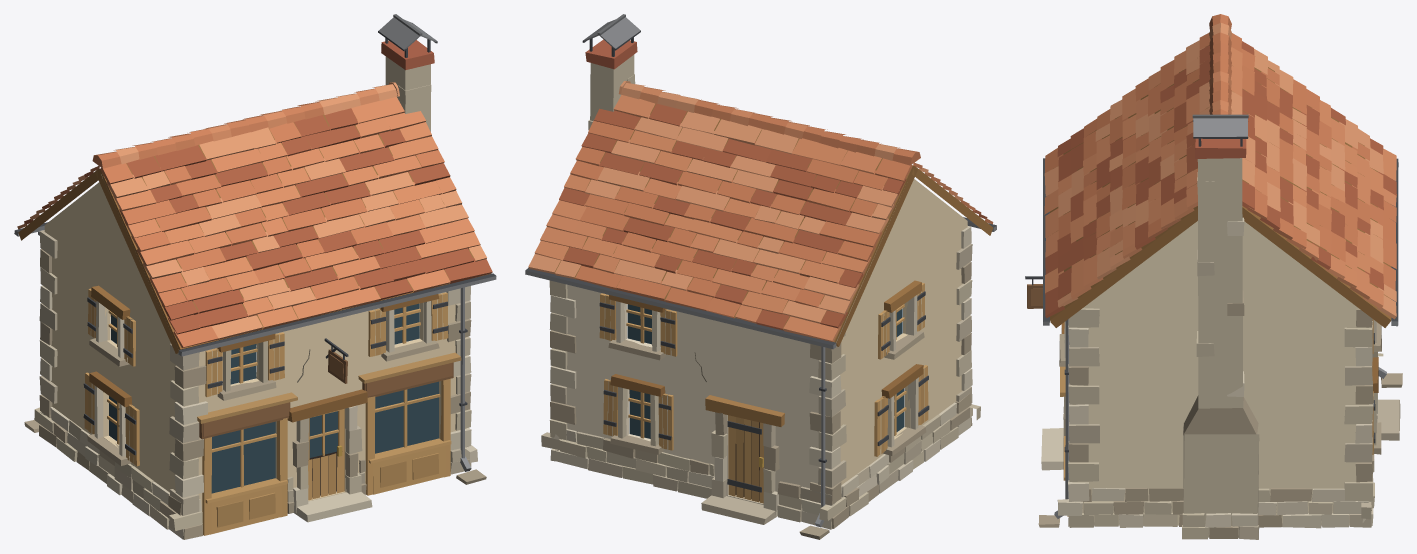
Rendered from fournil.glb.
3 views of the same model, side by side, from view 1: azimuth 30°, elevation 25°; view 2: azimuth 150°, elevation 25°; view 3: azimuth 270°, elevation 25° (orthographic). The views are drawn at different scales.
Visible parts, largest first — view 1: fournil; view 2: fournil; view 3: fournil.
Boxes of the visible parts, x1,y1,x2,y2 form: fournil: (14,14,496,539); fournil: (525,14,996,539); fournil: (1025,14,1402,539).
Size of the model in its own units: 8.12 by 9.3 by 7.64.
